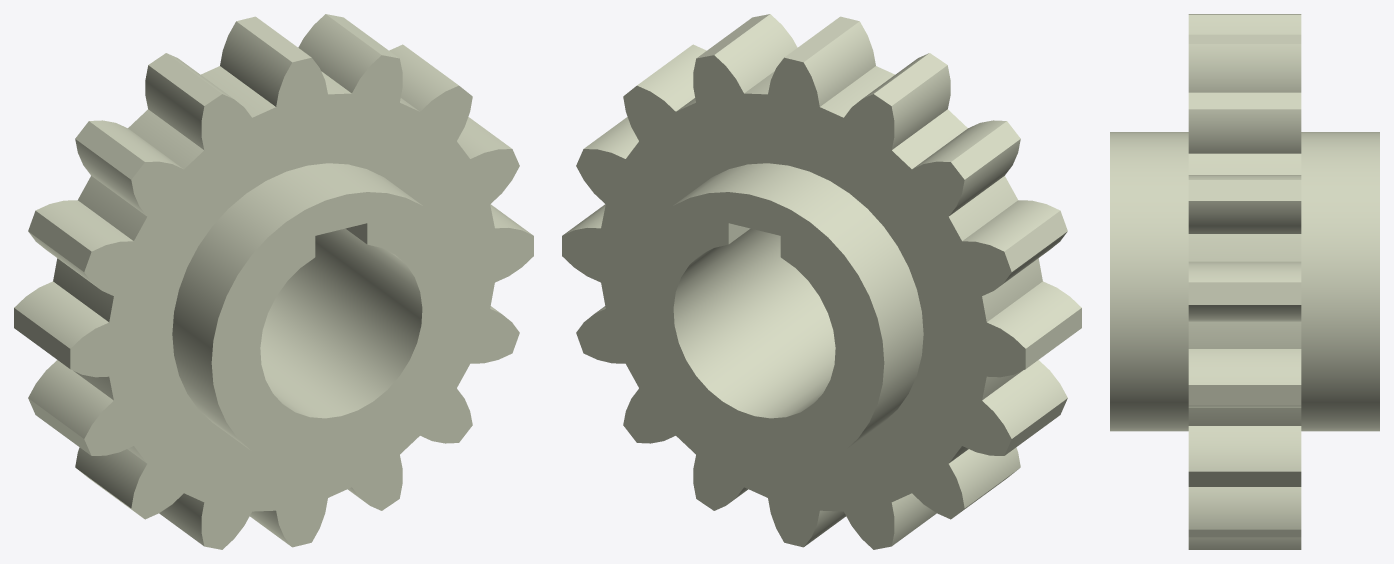
The model's file is driving_gear.glb.
3 views of the same model, side by side, from view 1: azimuth 30°, elevation 25°; view 2: azimuth 150°, elevation 25°; view 3: azimuth 270°, elevation 25° (orthographic).
Visible parts, largest first — view 1: driving gear; view 2: driving gear; view 3: driving gear.
Boxes of the visible parts, box(x1,y1,x2,y2) form: driving gear: box(14, 14, 533, 549); driving gear: box(562, 14, 1081, 549); driving gear: box(1110, 14, 1379, 549).
Bounding box in the file's own units: 0.0715 × 0.0715 × 0.036.
